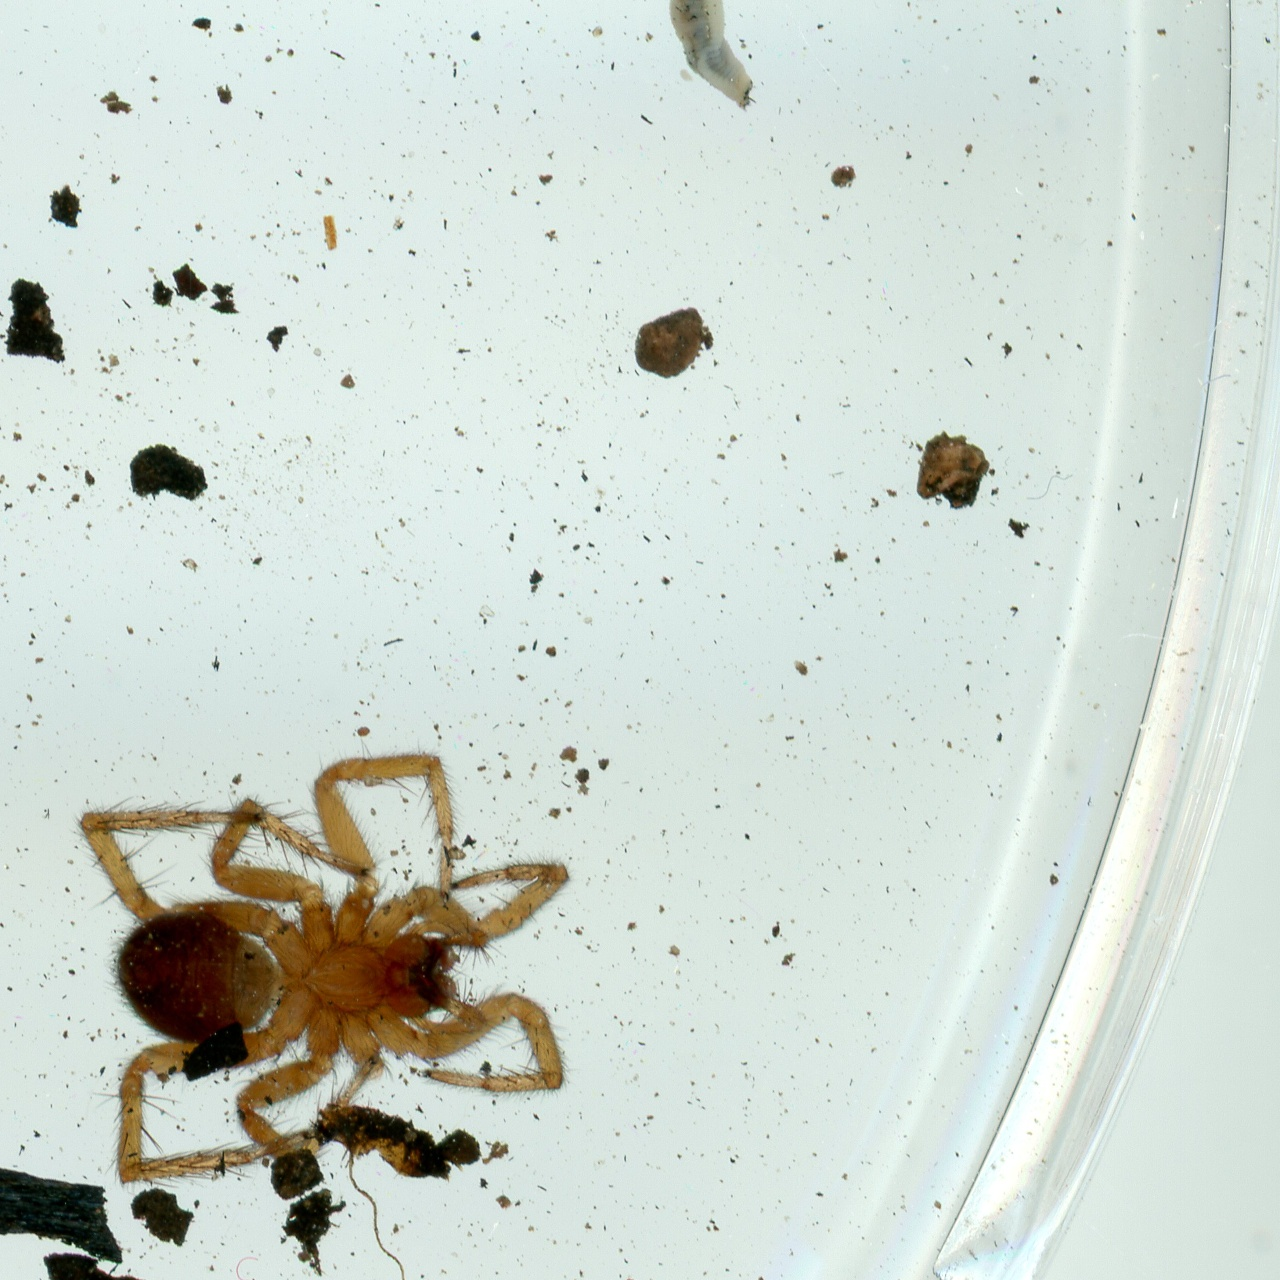arthropod: (52, 730, 588, 1197), (663, 0, 1107, 116)
